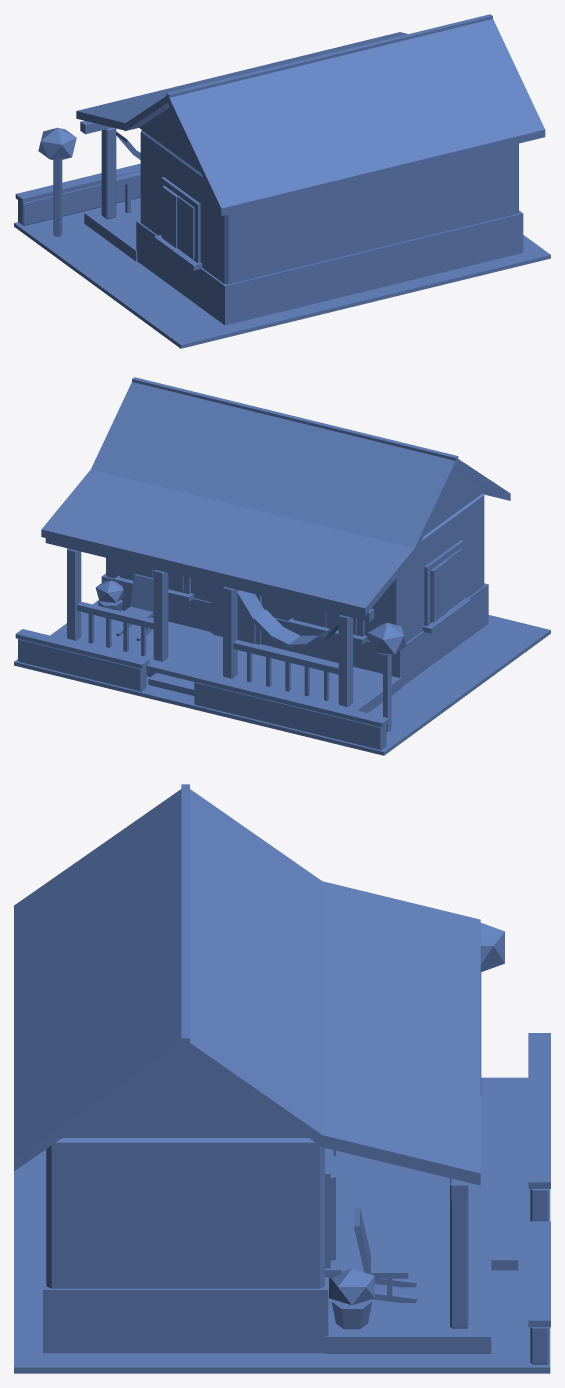
3 views of the same model, one above another, from view 1: azimuth 30°, elevation 25°; view 2: azimuth 150°, elevation 25°; view 3: azimuth 270°, elevation 25° (orthographic). The views are drawn at different scales.
Visible parts, largest first — view 1: corpo; view 2: corpo; view 3: corpo.
Part boxes in pixels (box(x1,y1,x2,y2)): corpo: box(14, 14, 550, 348); corpo: box(14, 377, 550, 755); corpo: box(14, 784, 550, 1373).
Bounding box in the file's own units: 1.28 × 0.68 × 1.
